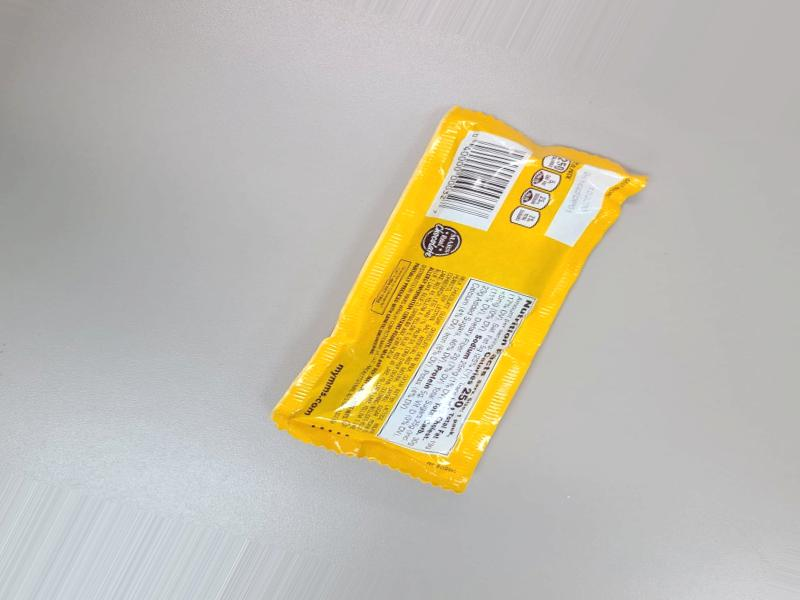m&m: (366, 102, 678, 484)
